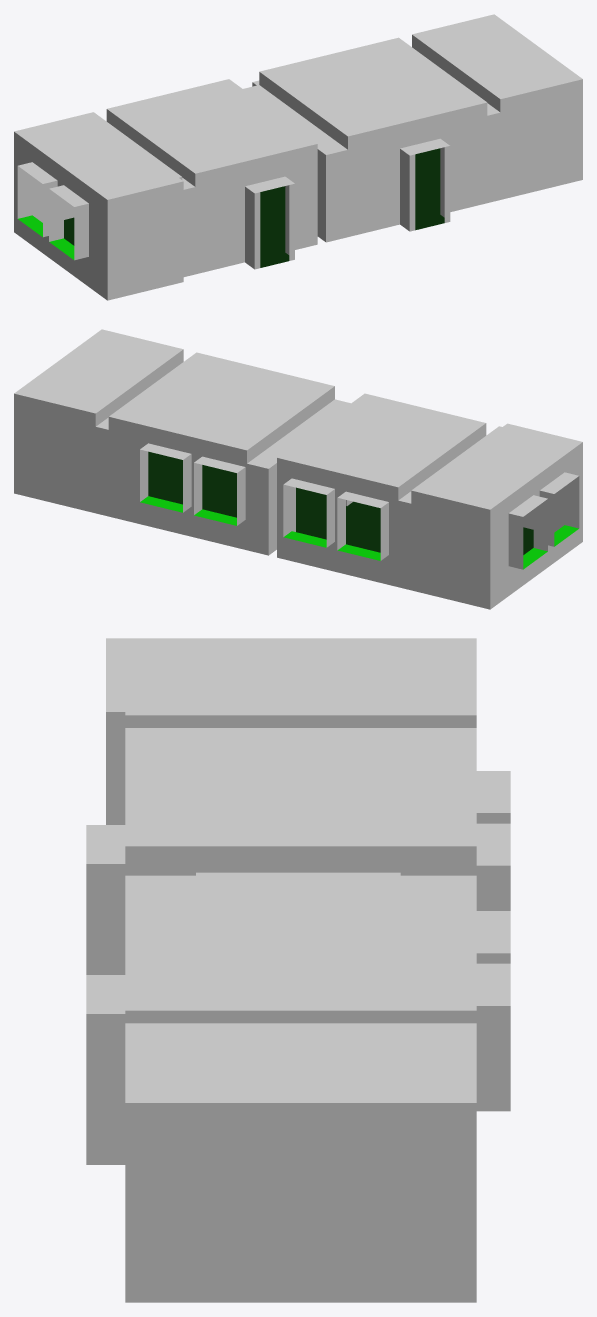
File: patro2-A710.fbx
3 views of the same model, one above another, from view 1: azimuth 30°, elevation 25°; view 2: azimuth 150°, elevation 25°; view 3: azimuth 270°, elevation 25° (orthographic). The views are drawn at different scales.
Parts seen in each view (by area): view 1: A710.Front, A710.Top, A710.Left, A710.Bottom, A710.Back, A710.Right; view 2: A710.Top, A710.Back, A710.Left, A710.Bottom, A710.Front, A710.Right; view 3: A710.Top, A710.Right.
Part boxes in pixels (bbox=[...]): A710.Front: bbox=[43, 79, 582, 300]; A710.Top: bbox=[14, 14, 582, 206]; A710.Left: bbox=[14, 35, 500, 300]; A710.Bottom: bbox=[18, 148, 444, 267]; A710.Back: bbox=[17, 166, 74, 241]; A710.Right: bbox=[285, 147, 444, 254]; A710.Top: bbox=[14, 329, 582, 516]; A710.Back: bbox=[14, 393, 554, 609]; A710.Left: bbox=[95, 349, 582, 609]; A710.Bottom: bbox=[140, 451, 578, 569]; A710.Front: bbox=[346, 476, 579, 551]; A710.Right: bbox=[140, 449, 352, 550]; A710.Top: bbox=[86, 638, 510, 1102]; A710.Right: bbox=[86, 712, 510, 1302].
Size of the model in its own units: 1363 by 265 by 510.
